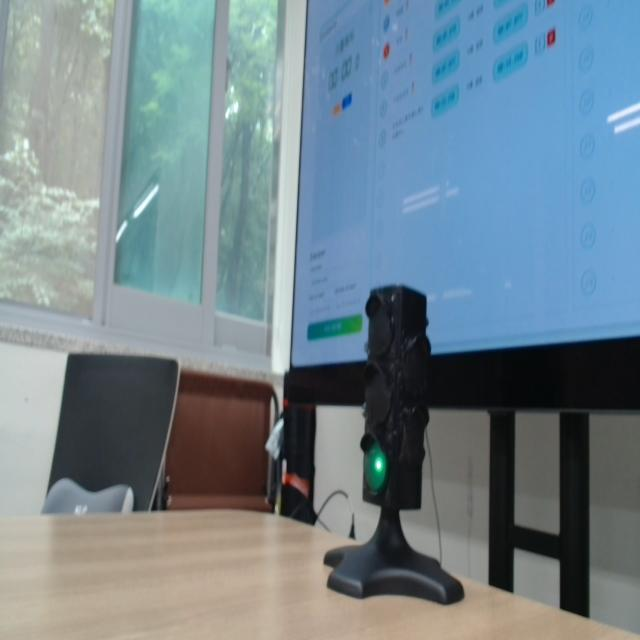green_light: (364, 442, 387, 494)
